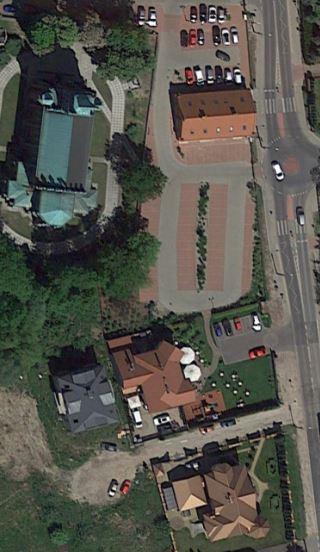church: (1, 78, 105, 235)
family house: (109, 334, 204, 412), (199, 456, 273, 542), (167, 82, 262, 146), (48, 357, 121, 434)
